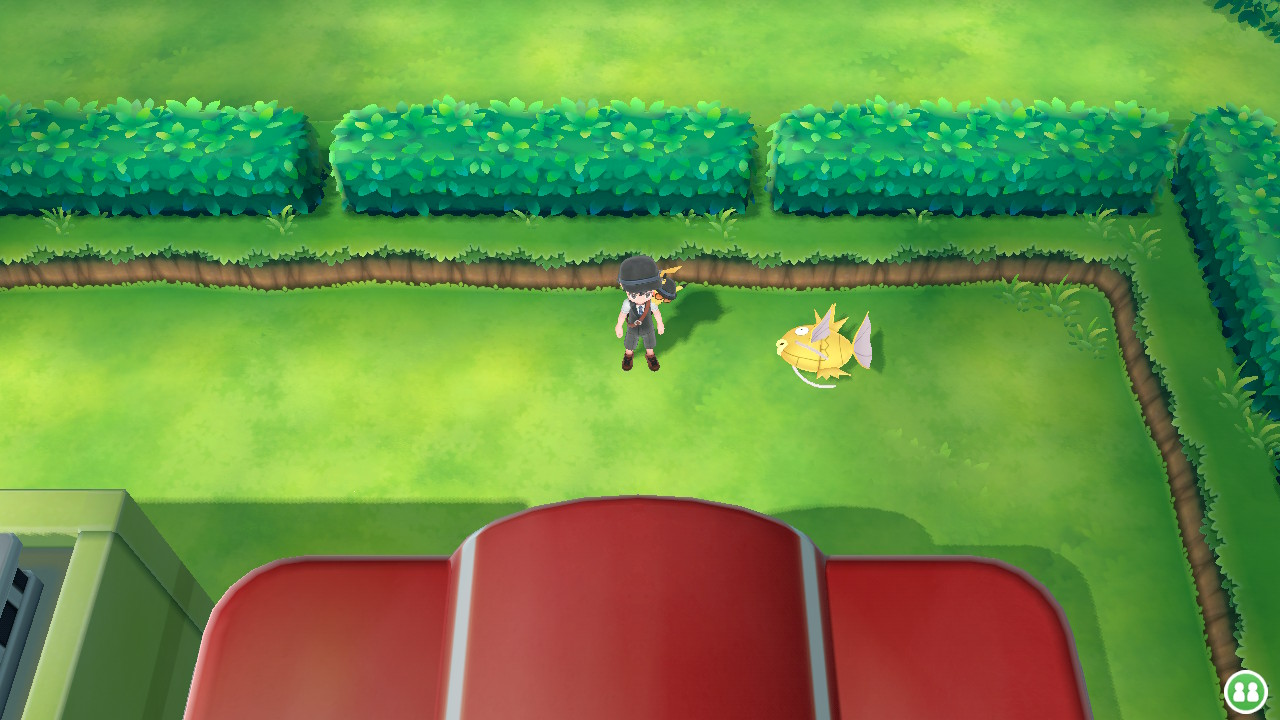Golden: (776, 304, 878, 389)
